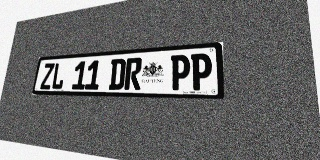1: (85, 60, 101, 90), (72, 61, 88, 90)
D: (108, 58, 126, 90)
L: (51, 62, 66, 89)
P: (190, 53, 212, 90), (170, 54, 190, 90)
R: (124, 57, 142, 90)
Z: (40, 63, 55, 89)
